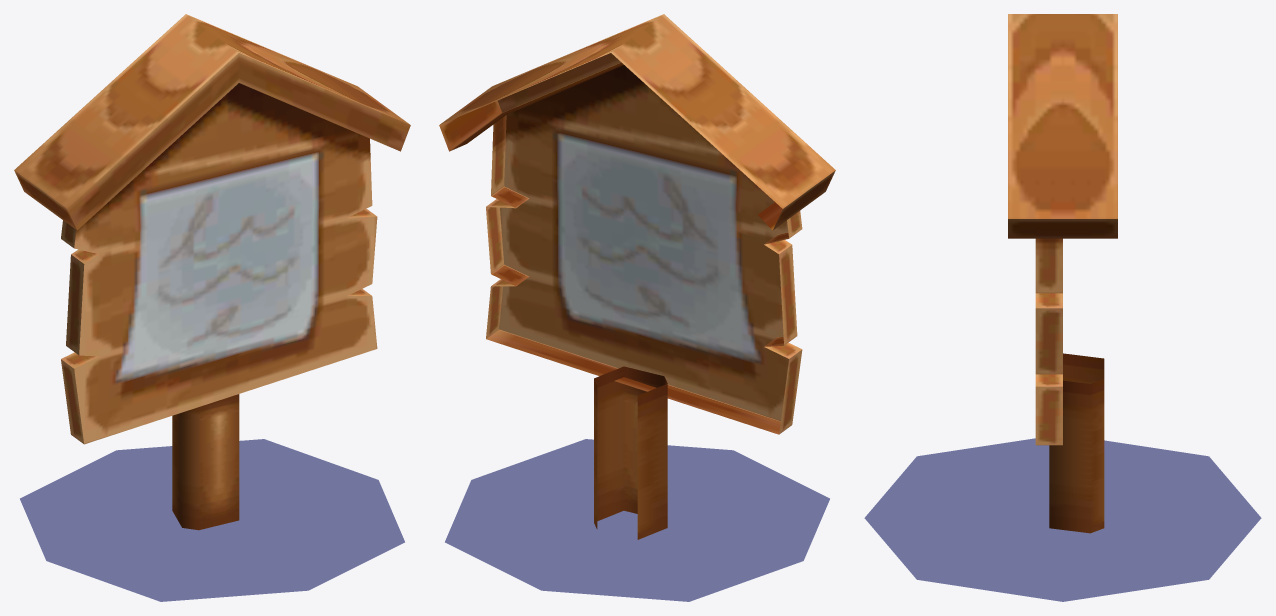
Rendered from sobj_mcs_buildsite.fbx.
3 renders of one model, left to right at view 1: azimuth 30°, elevation 25°; view 2: azimuth 150°, elevation 25°; view 3: azimuth 270°, elevation 25°, orthographic. The views are drawn at different scales.
Parts seen in each view (by area): view 1: sobj_mcs_buildsite, sdw_circle; view 2: sobj_mcs_buildsite, sdw_circle; view 3: sdw_circle, sobj_mcs_buildsite.
Part boxes in pixels (x1=…): sobj_mcs_buildsite: x1=14, y1=14, x2=410, y2=530; sdw_circle: x1=20, y1=439, x2=404, y2=601; sobj_mcs_buildsite: x1=439, y1=14, x2=835, y2=539; sdw_circle: x1=445, y1=439, x2=829, y2=601; sdw_circle: x1=864, y1=438, x2=1261, y2=601; sobj_mcs_buildsite: x1=1008, y1=14, x2=1117, y2=533.
Size of the model in its own units: 0.0931 by 0.1276 by 0.09.
